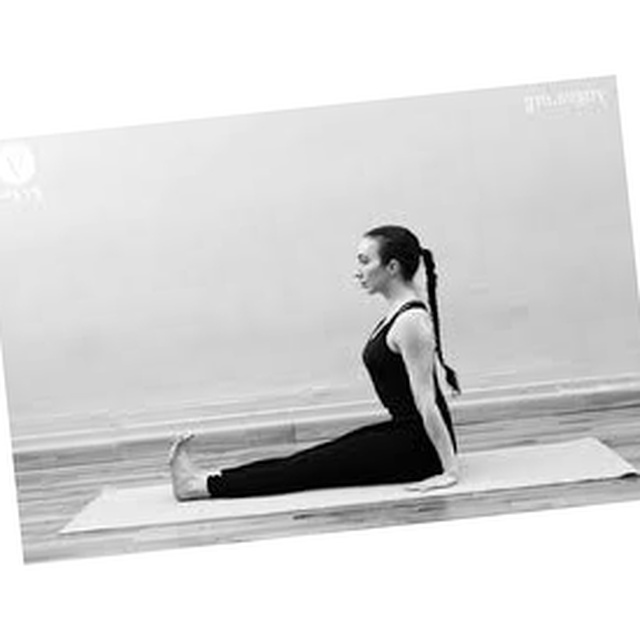Staff_Pose: (167, 225, 463, 506)
